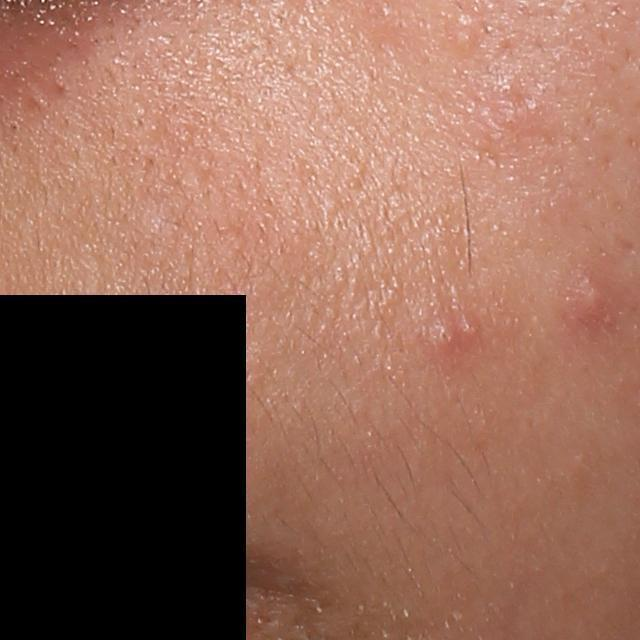papule: (570, 275, 612, 320), (426, 319, 460, 353), (455, 312, 482, 340)
